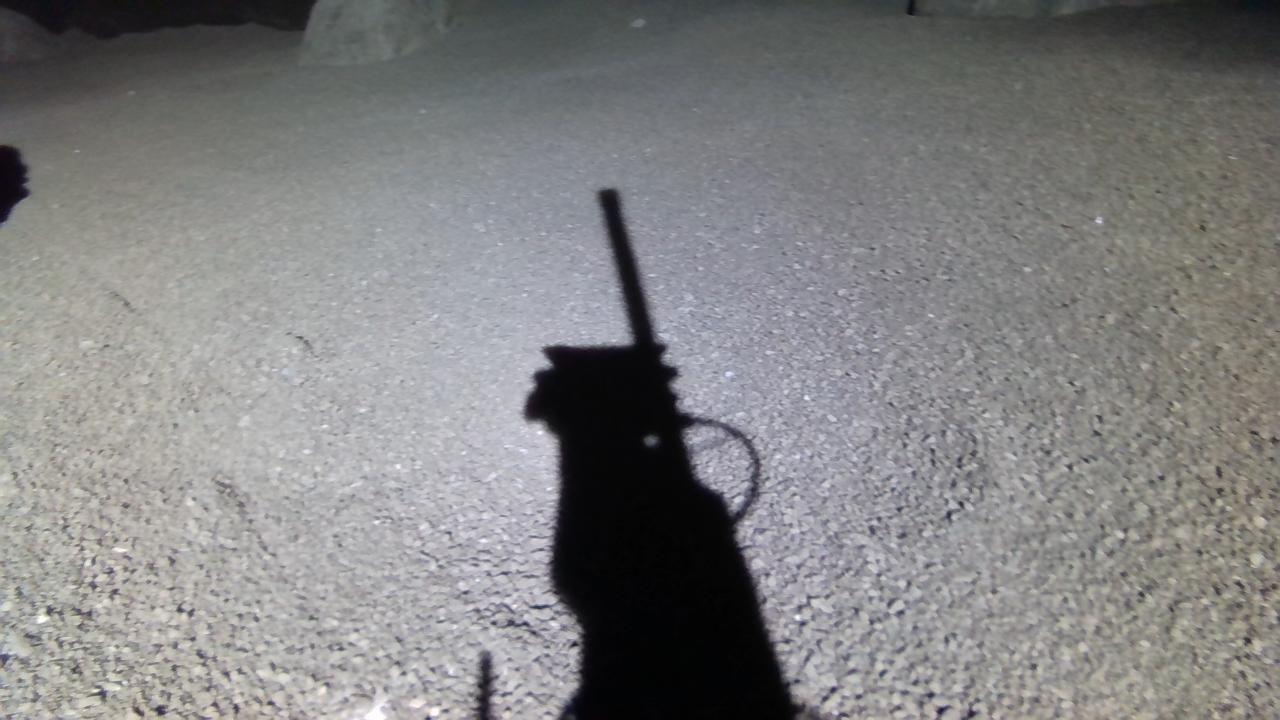rock: (300, 0, 452, 64), (915, 0, 1151, 17)
